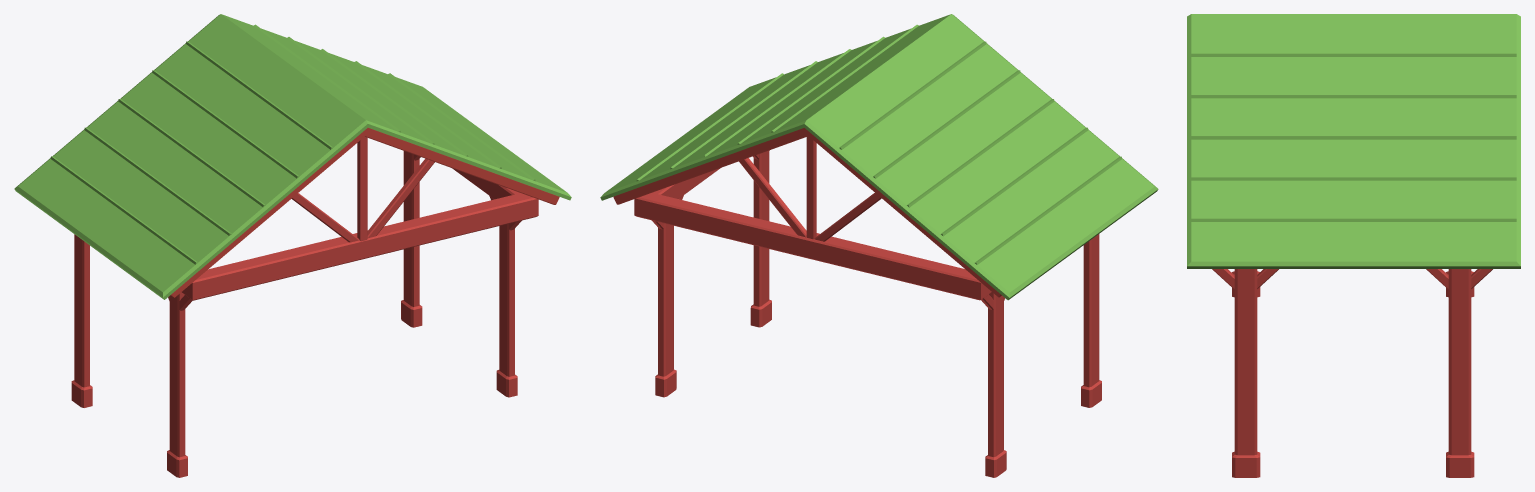
The model's file is structures_a01.gltf.
The picture shows the model from 3 angles, left to right: view 1: azimuth 30°, elevation 25°; view 2: azimuth 150°, elevation 25°; view 3: azimuth 270°, elevation 25°; orthographic projection. The views are drawn at different scales.
Visible parts, largest first — view 1: structures_a01_001; view 2: structures_a01_001; view 3: structures_a01_001.
Boxes of the visible parts, x1,y1,x2,y2 form: structures_a01_001: (14,14,571,477); structures_a01_001: (600,14,1158,477); structures_a01_001: (1187,14,1520,477).
Bounding box in the file's own units: 6.4 × 4.94 × 4.04.
Materials: 1 (1 with a texture image).
